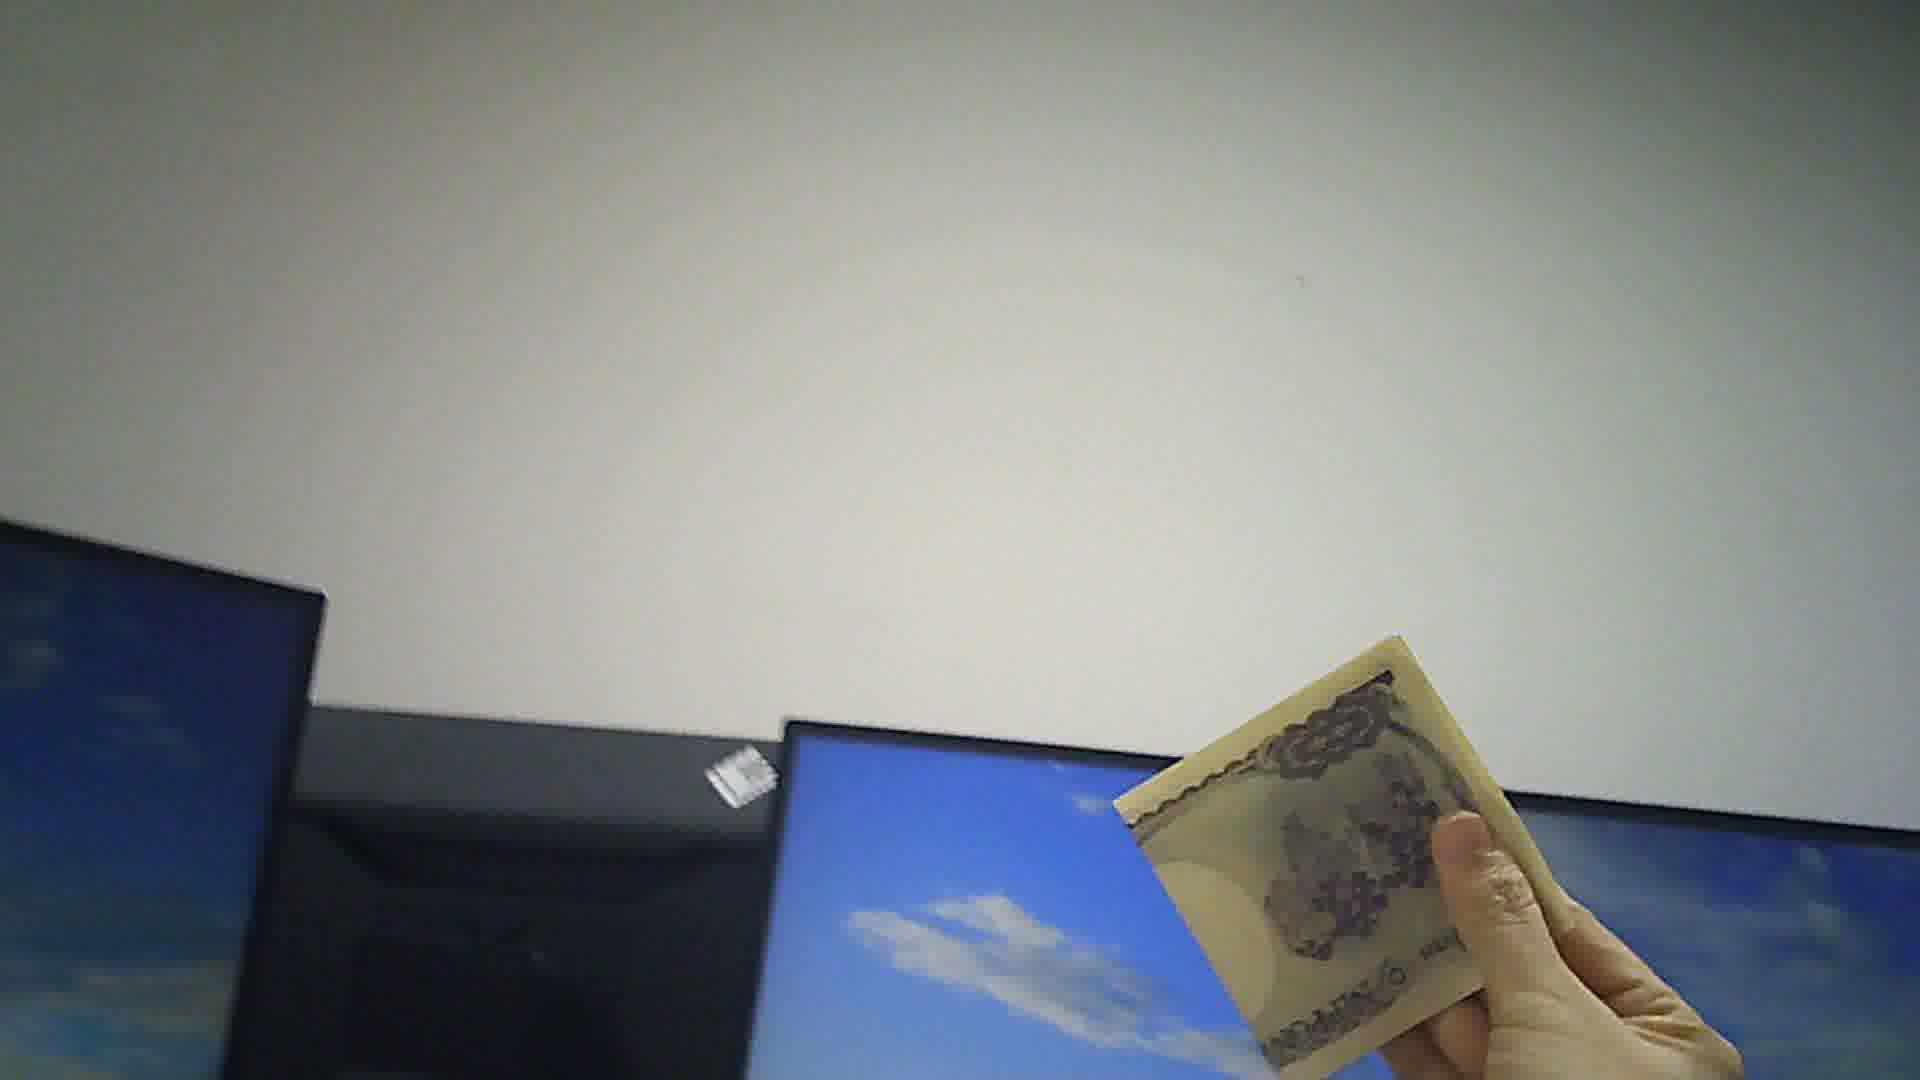5,000 Yen: (1112, 630, 1584, 1069)
